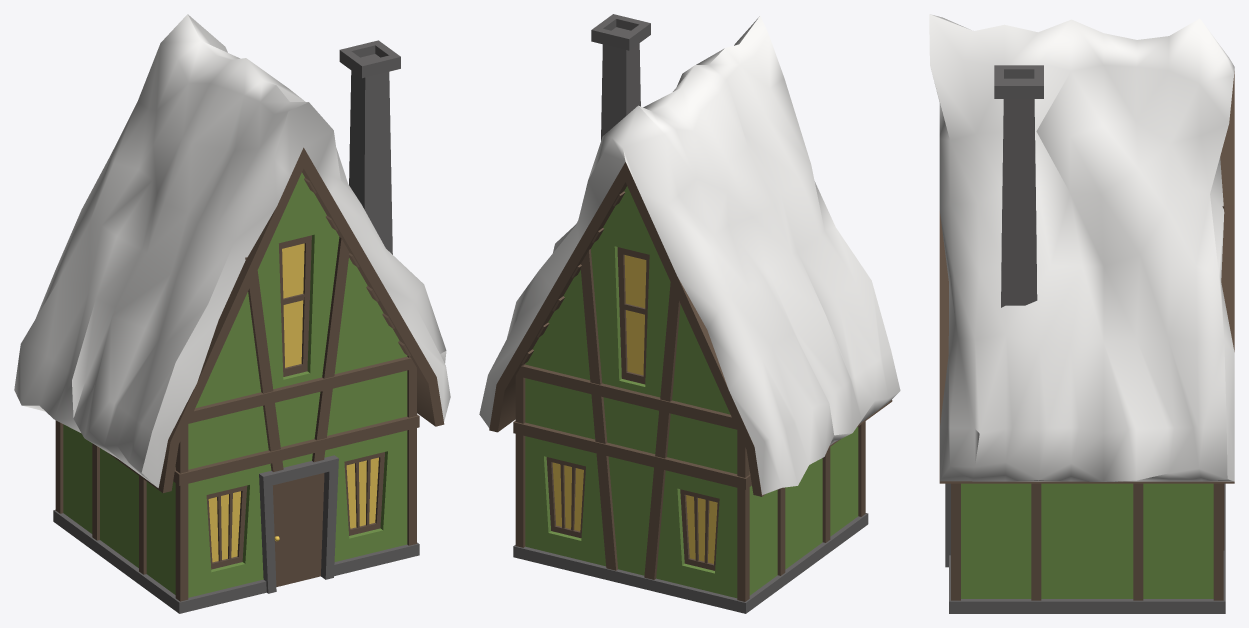
File: House_2.glb
3 renders of one model, left to right at view 1: azimuth 30°, elevation 25°; view 2: azimuth 150°, elevation 25°; view 3: azimuth 270°, elevation 25°, orthographic. The views are drawn at different scales.
Parts seen in each view (by area): view 1: House_2; view 2: House_2; view 3: House_2.
Part boxes in pixels (x1,y1,x2,y2): House_2: (14,14,450,613); House_2: (479,14,900,613); House_2: (929,14,1234,613).
Size of the model in its own units: 1.41 by 1.99 by 1.03.
1 material, 1 textured.
